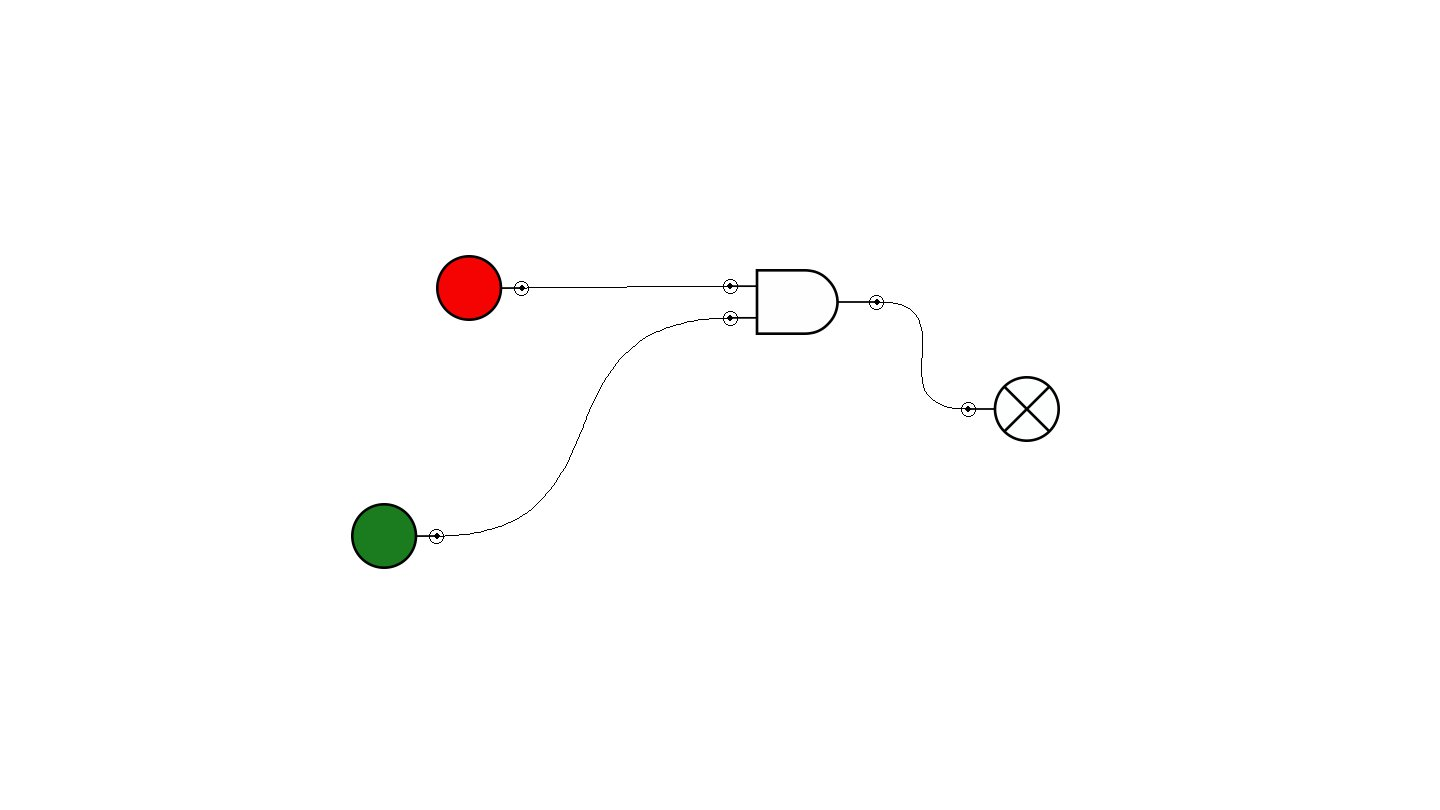and: (723, 269, 884, 335)
bulb: (961, 376, 1060, 442)
switch_False: (436, 255, 529, 321)
switch_True: (351, 503, 444, 569)
